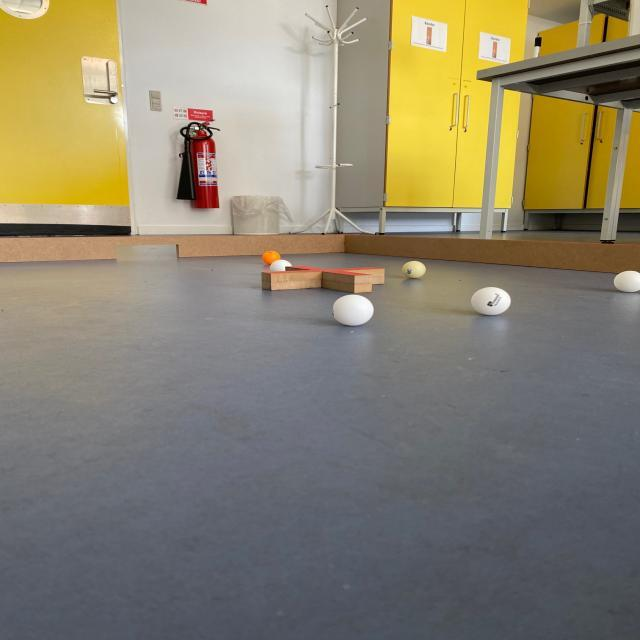orange: (260, 248, 284, 268)
white: (332, 292, 374, 326), (469, 286, 512, 317), (611, 268, 640, 294), (399, 258, 427, 282), (268, 257, 292, 277)
